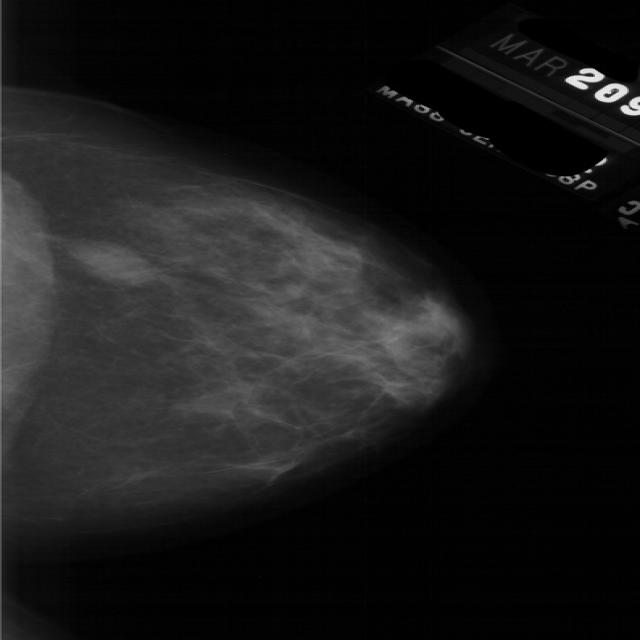tumour: (59, 239, 154, 284)
